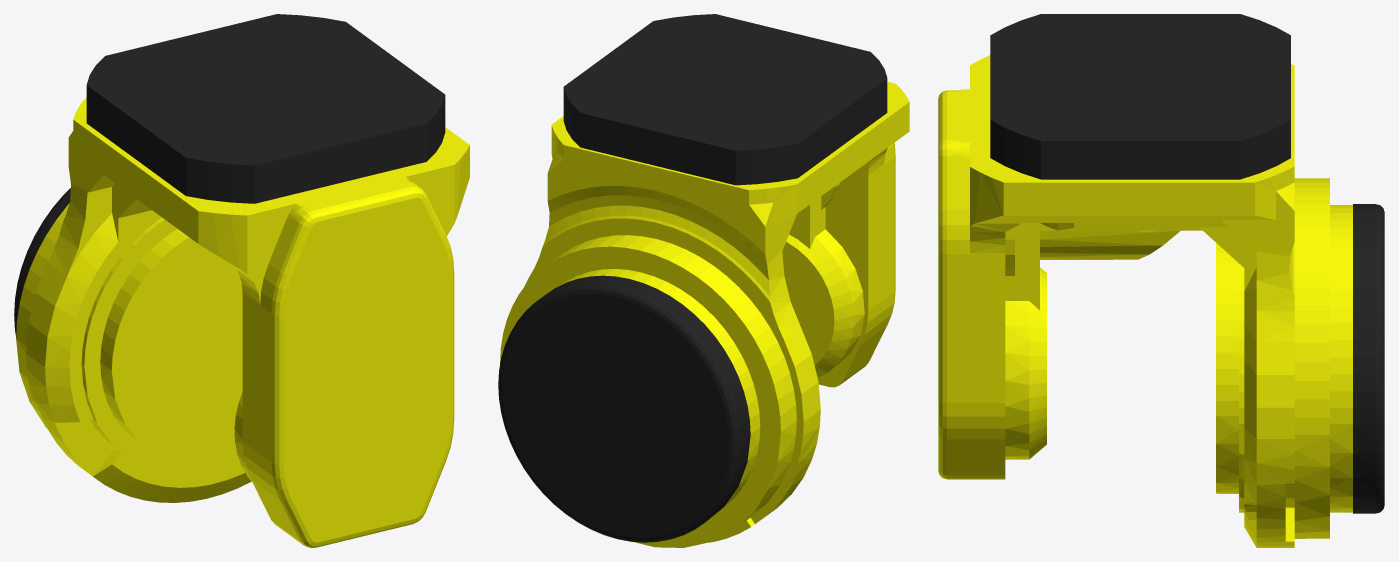
3 views of the same model, side by side, from view 1: azimuth 30°, elevation 25°; view 2: azimuth 150°, elevation 25°; view 3: azimuth 270°, elevation 25° (orthographic). The views are drawn at different scales.
Visible parts, largest first — view 1: node; view 2: node; view 3: node.
Part boxes in pixels (x1,y1,x2,y2): node: (14,14,469,547); node: (498,14,909,547); node: (938,14,1384,547).
Size of the model in its own units: 214 by 282 by 252.
